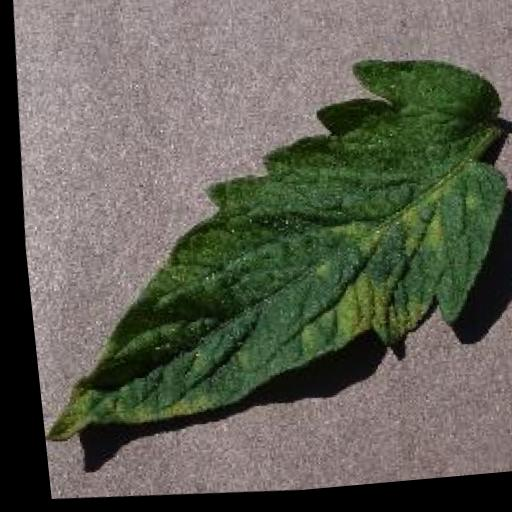Leaf Mold: (6, 43, 512, 467)
